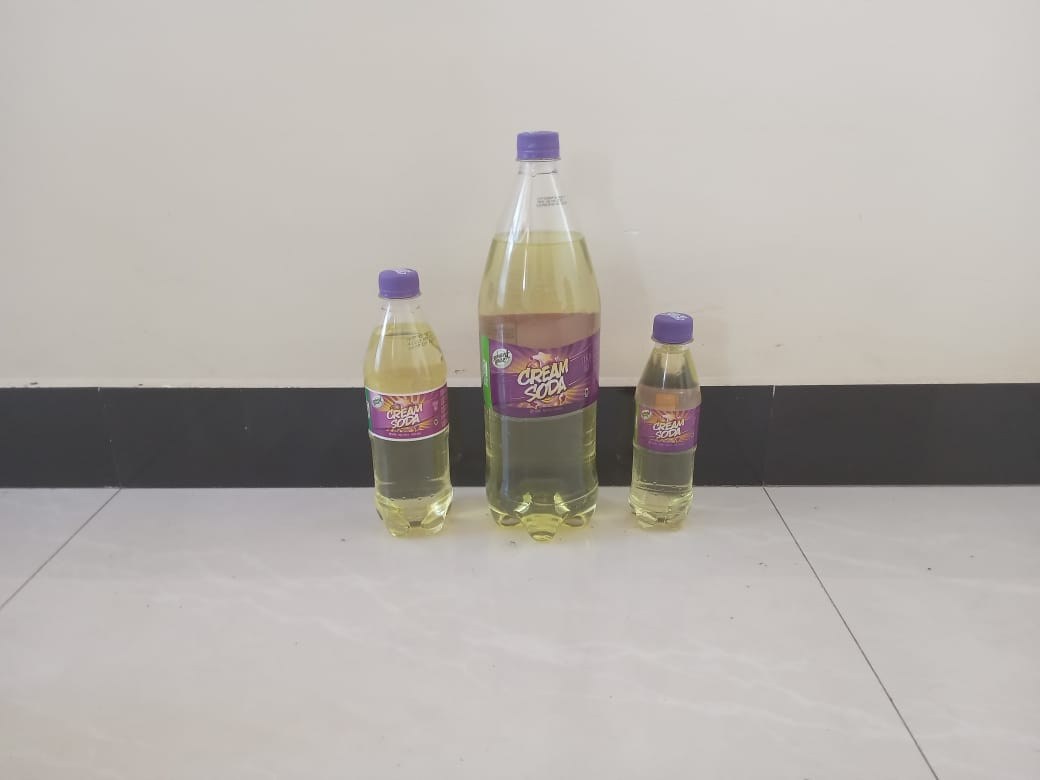L: (477, 132, 605, 541)
S: (362, 265, 454, 538)
Xs: (629, 313, 702, 538)
